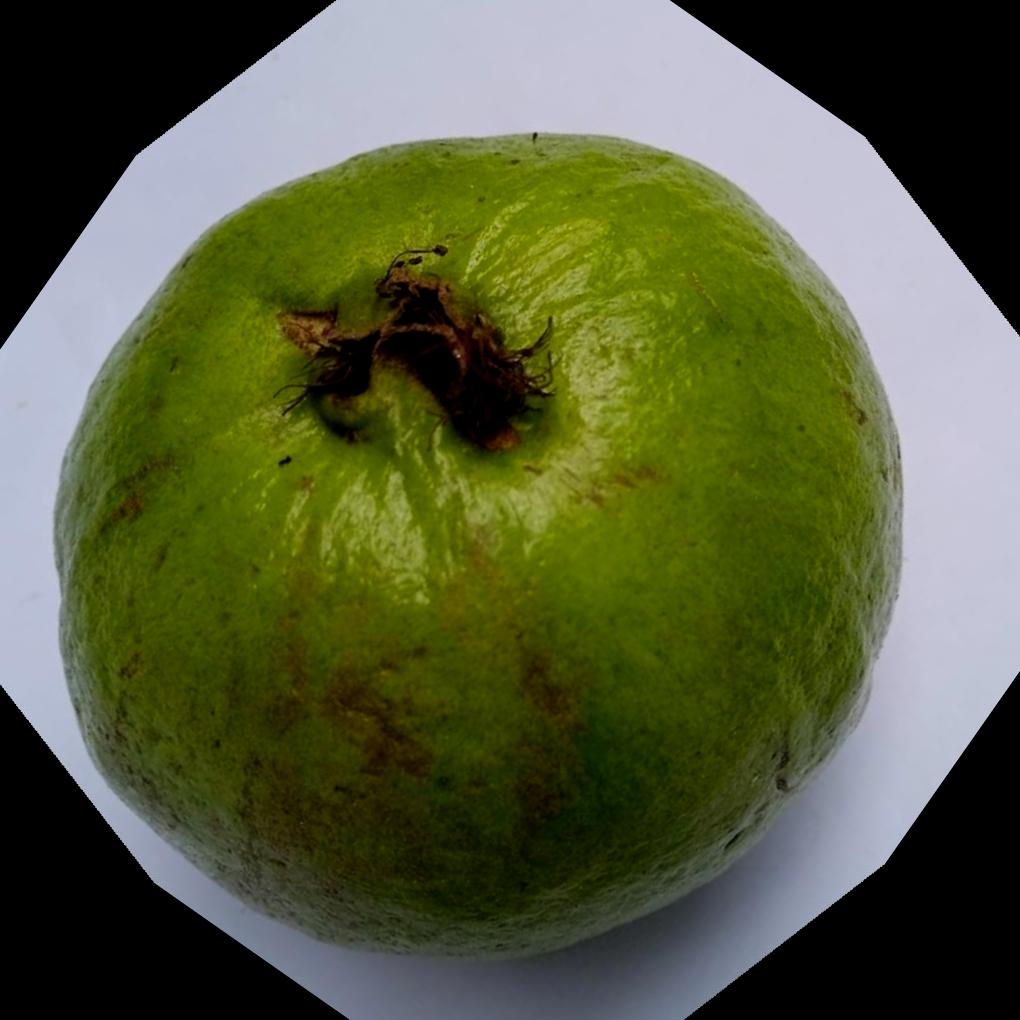FreshGuava: (52, 132, 910, 966)
